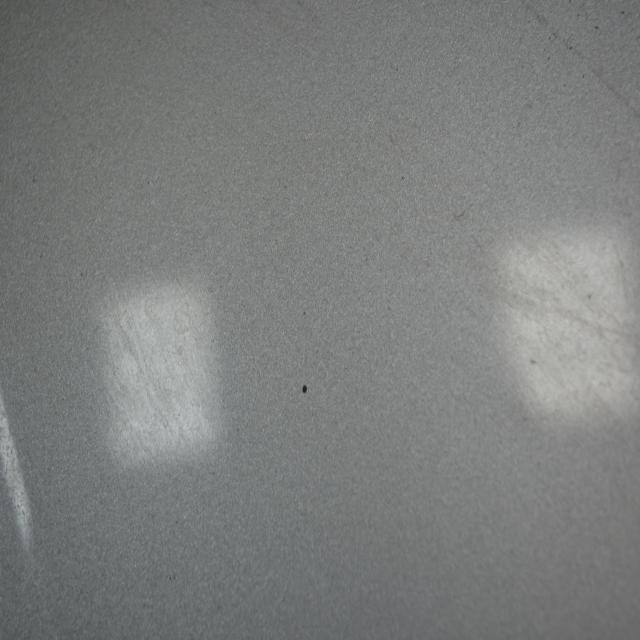dirt: (583, 282, 595, 310), (525, 351, 539, 371), (300, 377, 310, 400), (618, 6, 627, 19), (594, 22, 602, 35)
scratch: (523, 0, 640, 125)
water marks: (494, 222, 638, 419), (92, 292, 218, 457)
